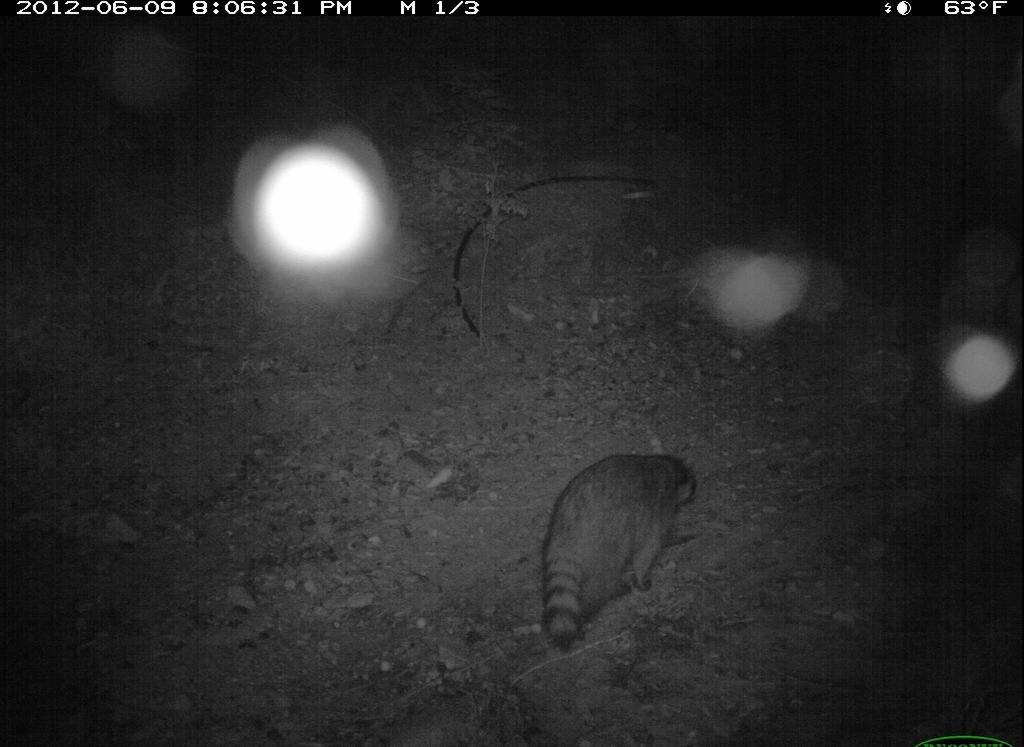raccoon: (506, 437, 717, 661)
